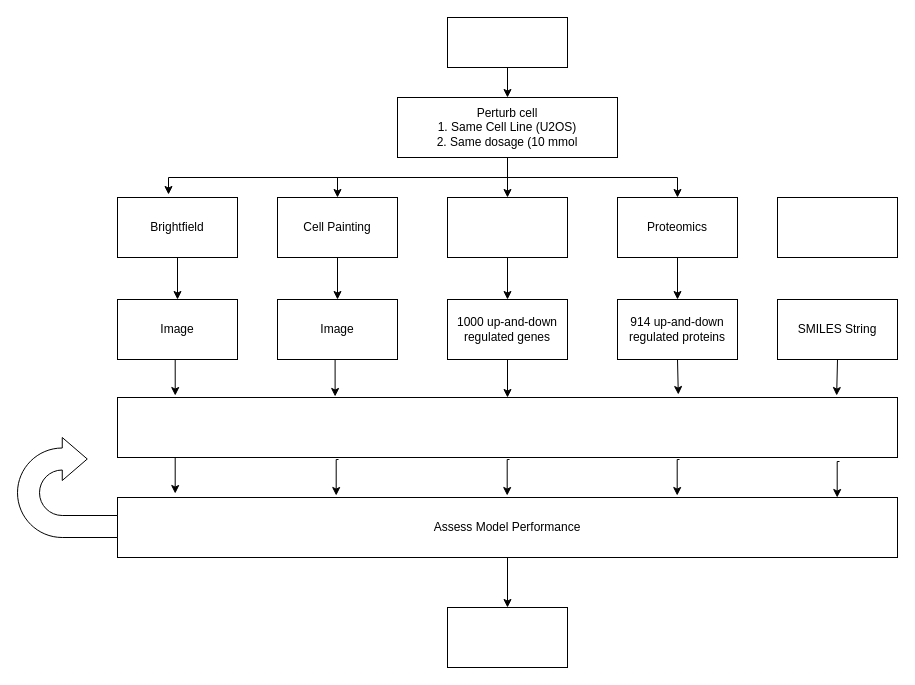
This 915x685 diagram has some shape labels left out. The shapes that lost their labels are listed below. From the top down, each one's centre as x and y in pixels, then its label:
At pixel 507 42: "Compound".
At pixel 507 227: "Gene Expression".
At pixel 837 227: "Chemical Structure".
At pixel 507 427: "Train Individual Models based on MoA Class".
At pixel 507 637: "Combine Into a Joint Model".
